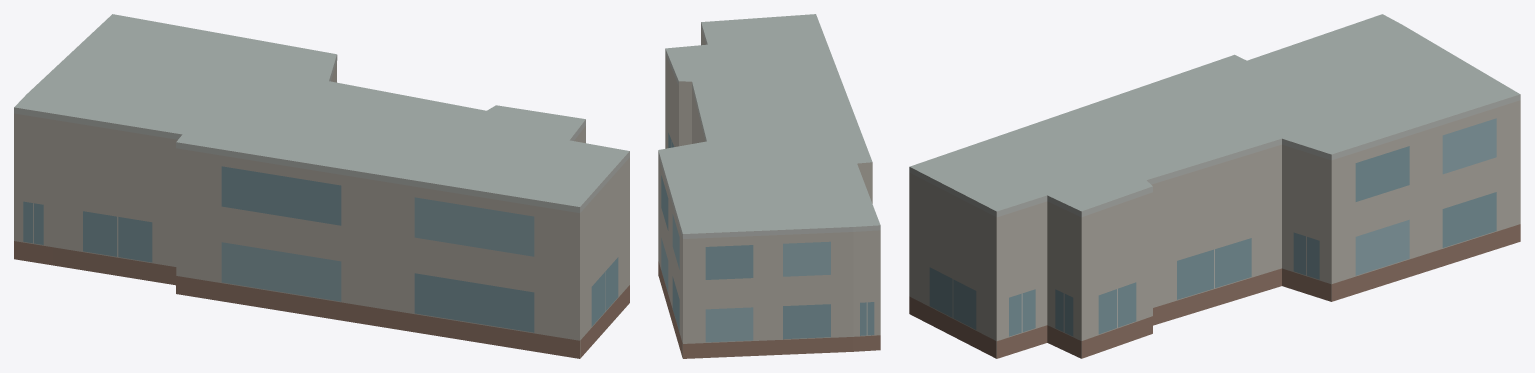
The model's file is survey-upis-32646262.glb.
The picture shows the model from 3 angles, left to right: view 1: azimuth 30°, elevation 25°; view 2: azimuth 150°, elevation 25°; view 3: azimuth 270°, elevation 25°; orthographic projection. The views are drawn at different scales.
Parts seen in each view (by area): view 1: survey-upis-32646262.tmp; view 2: survey-upis-32646262.tmp; view 3: survey-upis-32646262.tmp.
Boxes of the visible parts, left/top/right/bottom form: survey-upis-32646262.tmp: left=14, top=14, right=629, bottom=358; survey-upis-32646262.tmp: left=658, top=14, right=880, bottom=358; survey-upis-32646262.tmp: left=909, top=14, right=1520, bottom=358.
Bounding box in the file's own units: 17.55 × 6.1 × 22.94.
